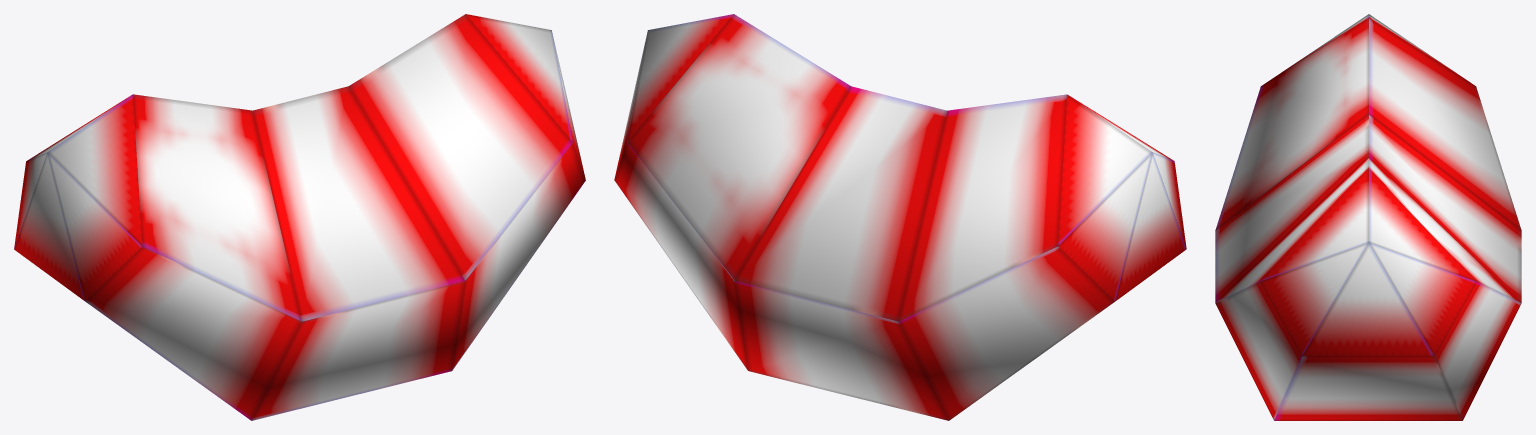
3 renders of one model, left to right at view 1: azimuth 30°, elevation 25°; view 2: azimuth 150°, elevation 25°; view 3: azimuth 270°, elevation 25°, orthographic. The views are drawn at different scales.
Parts seen in each view (by area): view 1: T1L2M007_35; view 2: T1L2M007_35; view 3: T1L2M007_35.
Boxes of the visible parts, x1,y1,x2,y2 form: T1L2M007_35: (14, 14, 585, 420); T1L2M007_35: (614, 14, 1186, 420); T1L2M007_35: (1215, 14, 1521, 420).
Size of the model in its own units: 0.5547 by 0.3213 by 0.3154.
1 material, 1 textured.
